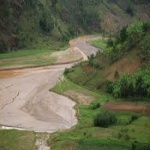River: (2, 31, 107, 143)
